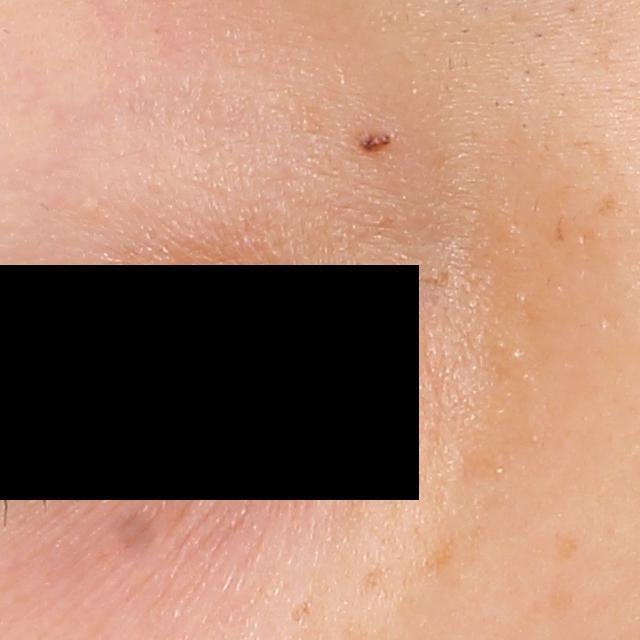melasma: (422, 533, 466, 579), (353, 568, 387, 600), (553, 529, 582, 561)
